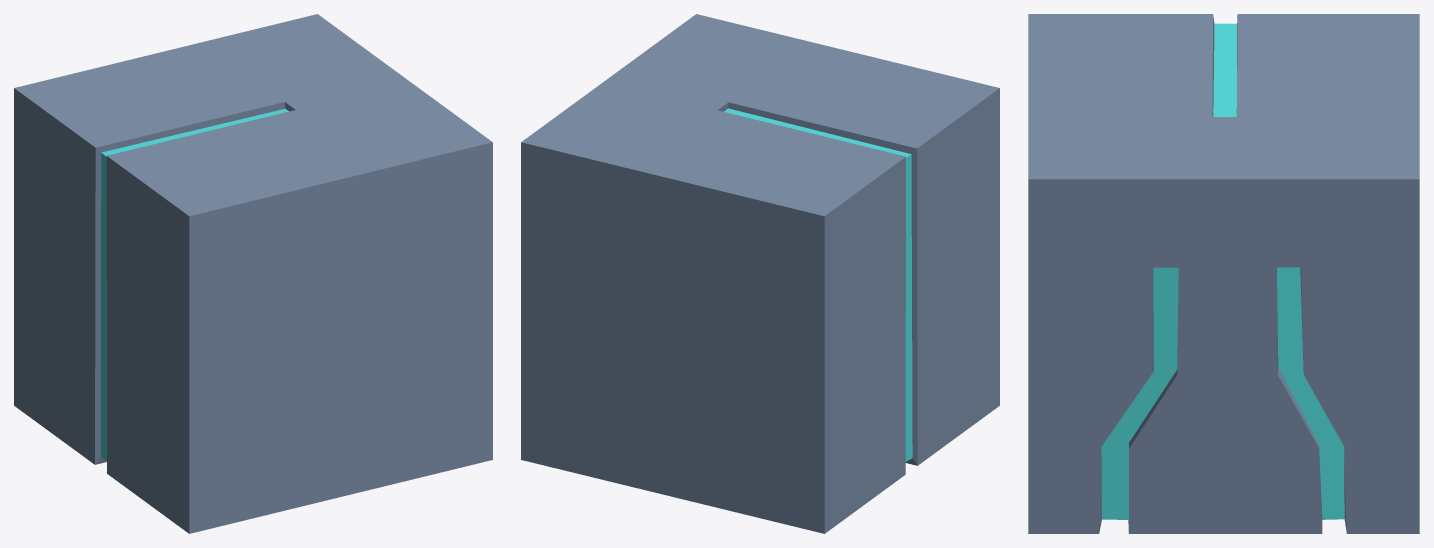
The model's file is aliceOI_by_ekoow.gltf.
3 renders of one model, left to right at view 1: azimuth 30°, elevation 25°; view 2: azimuth 150°, elevation 25°; view 3: azimuth 270°, elevation 25°, orthographic. The views are drawn at different scales.
Parts seen in each view (by area): view 1: Cube; view 2: Cube; view 3: Cube.
Boxes of the visible parts, x1,y1,x2,y2 form: Cube: [14, 14, 492, 533]; Cube: [521, 14, 999, 533]; Cube: [1028, 14, 1419, 533].
Bounding box in the file's own units: 2 × 2 × 2.
